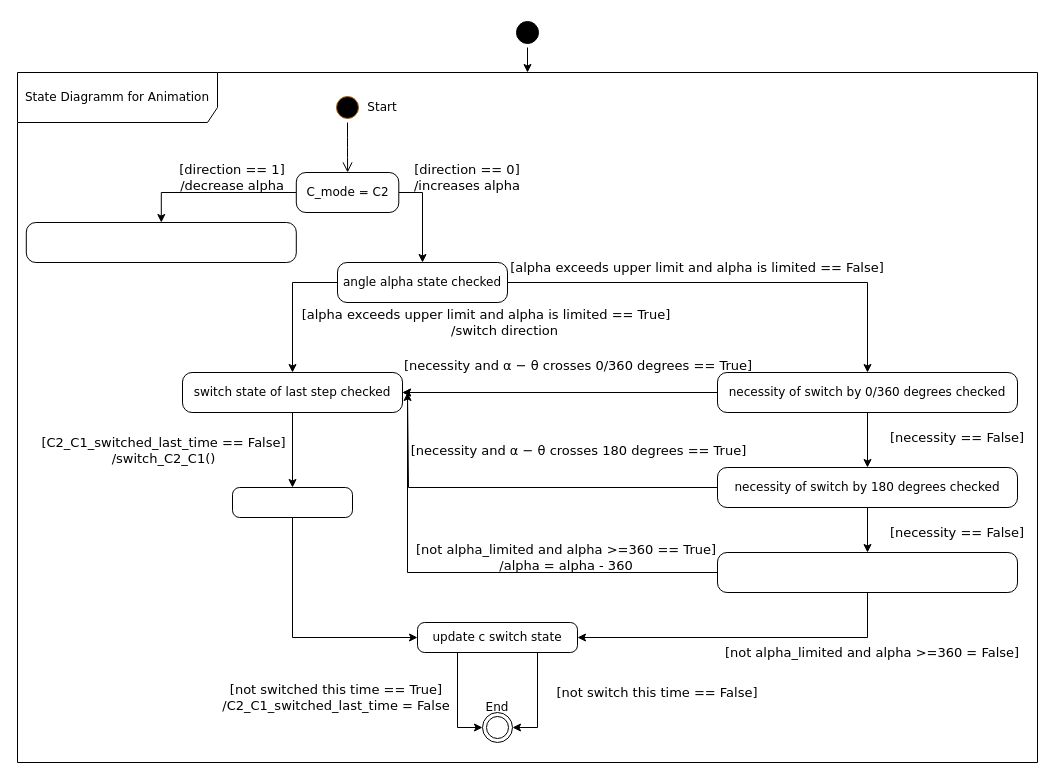
This 1055x780 diagram has some shape labels left out. Each missing label, with the box of its shape:
alpha range and limit state checked: (716, 552, 1018, 592)
C switched: (232, 486, 352, 518)
symmetric behavior relativ to the right part ......: (25, 222, 296, 262)
